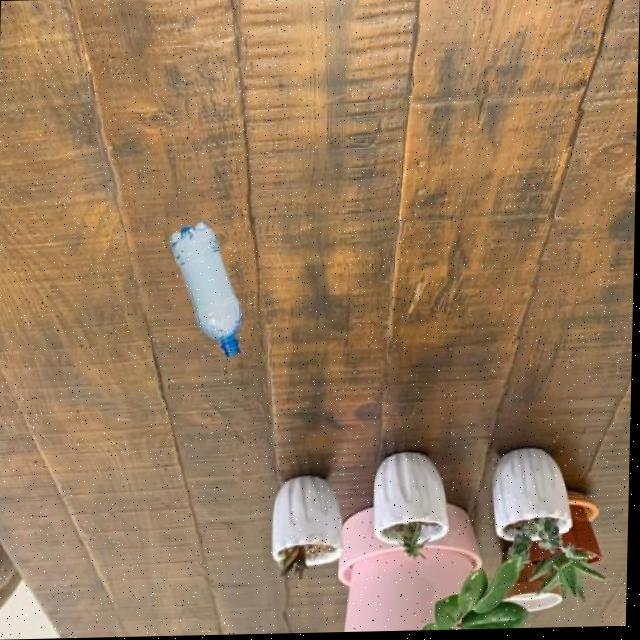bottle: (169, 221, 247, 361)
